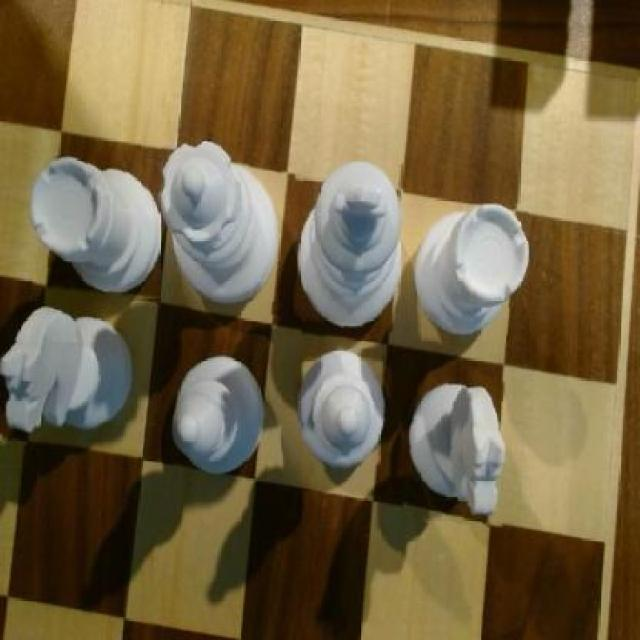black-rook: (174, 355, 266, 480), (296, 349, 388, 471)
white-bishop: (295, 166, 407, 336)
white-king: (0, 307, 135, 443), (404, 377, 508, 525)
white-pawn: (160, 136, 282, 316)
white-queen: (29, 152, 167, 306), (415, 205, 531, 336)
